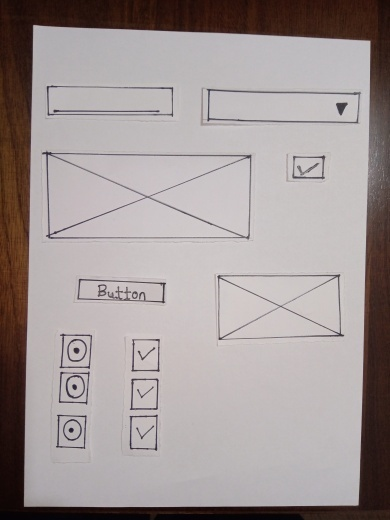button: (80, 277, 165, 303)
checkbox: (132, 338, 158, 372), (130, 415, 156, 449), (131, 376, 157, 410), (291, 155, 329, 178)
dropdown: (206, 87, 360, 129)
img: (47, 150, 251, 241), (217, 276, 343, 338)
radio: (62, 337, 88, 370), (58, 413, 84, 446), (59, 372, 85, 405)
text: (47, 83, 173, 117)
